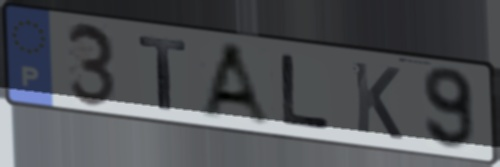3: (64, 20, 118, 111)
9: (419, 64, 478, 155)
A: (197, 40, 277, 131)
K: (350, 58, 406, 144)
L: (277, 50, 335, 132)
T: (135, 33, 189, 114)
